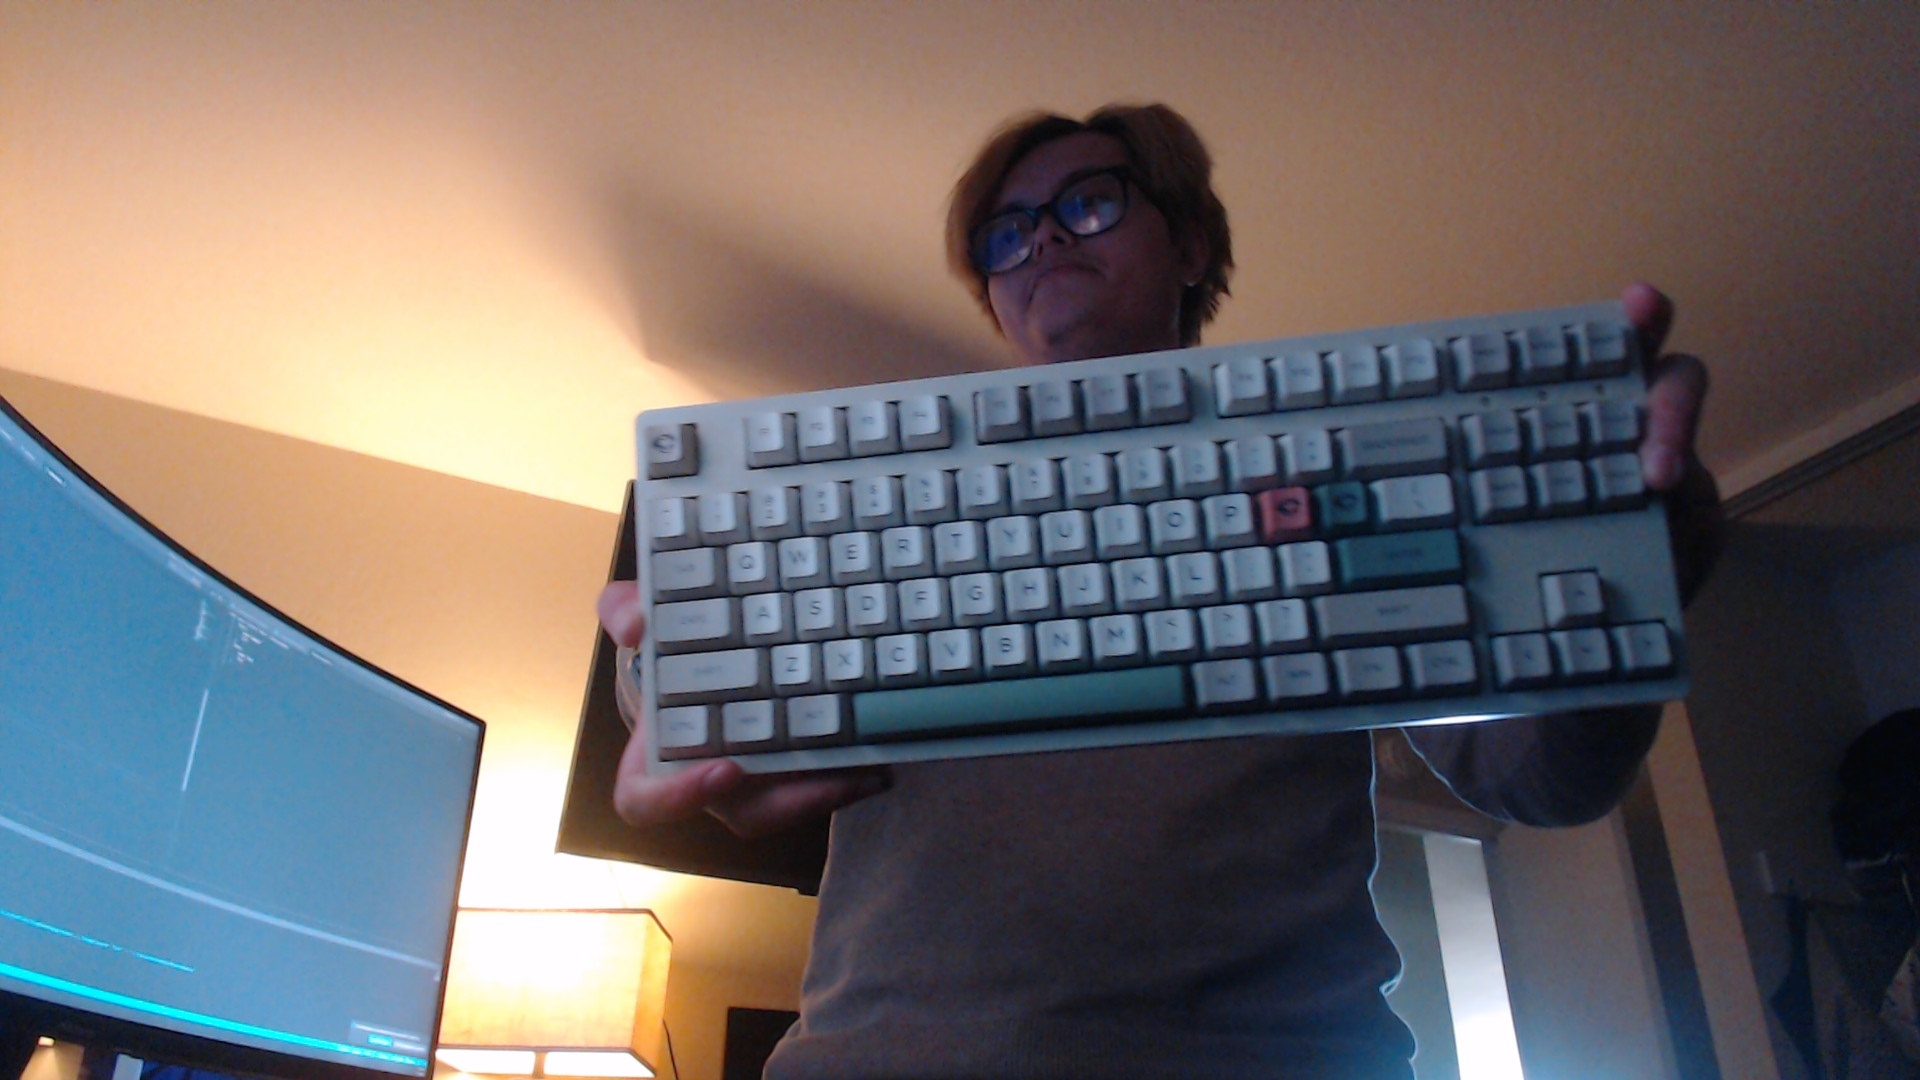keyboard: (630, 297, 1700, 789)
